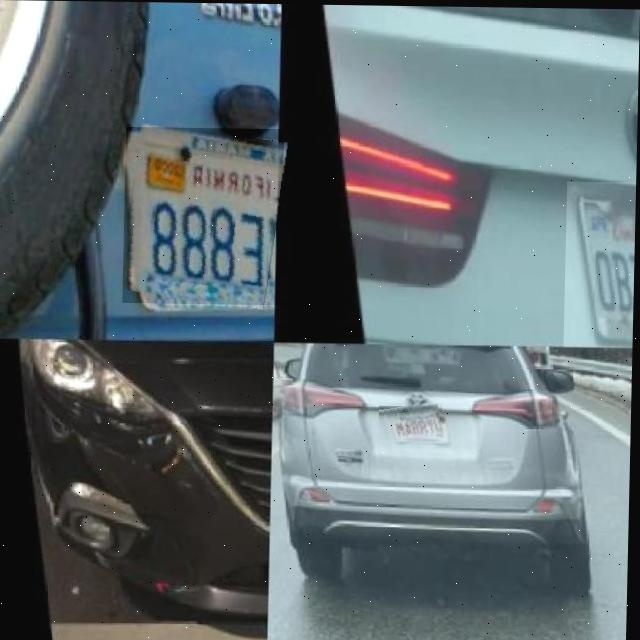LicensePlate: (124, 127, 285, 304), (565, 180, 637, 346), (381, 403, 444, 439)
